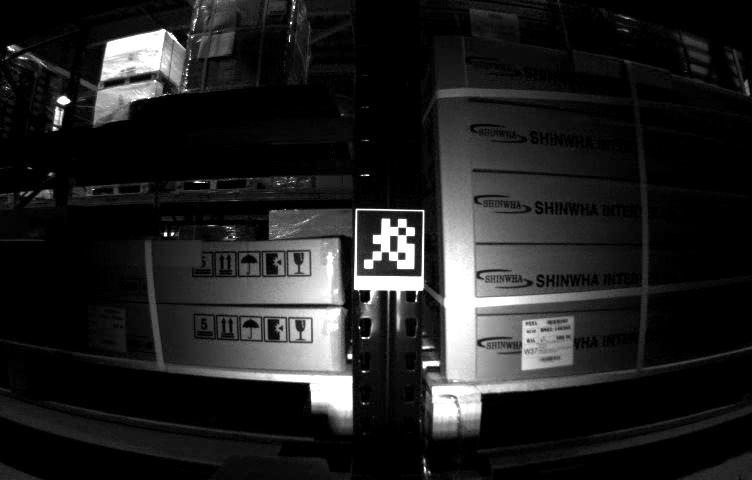True Barcode: (516, 316, 574, 368), (86, 303, 126, 352)
